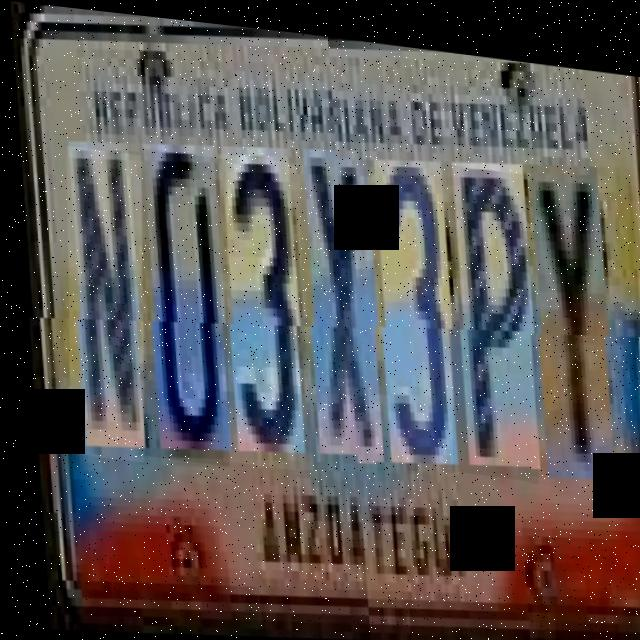0: (135, 145, 232, 462)
3: (365, 152, 458, 469), (213, 148, 306, 464)
N: (60, 143, 146, 459)
P: (443, 155, 540, 471)
X: (294, 150, 384, 466)
Y: (521, 156, 616, 482)
